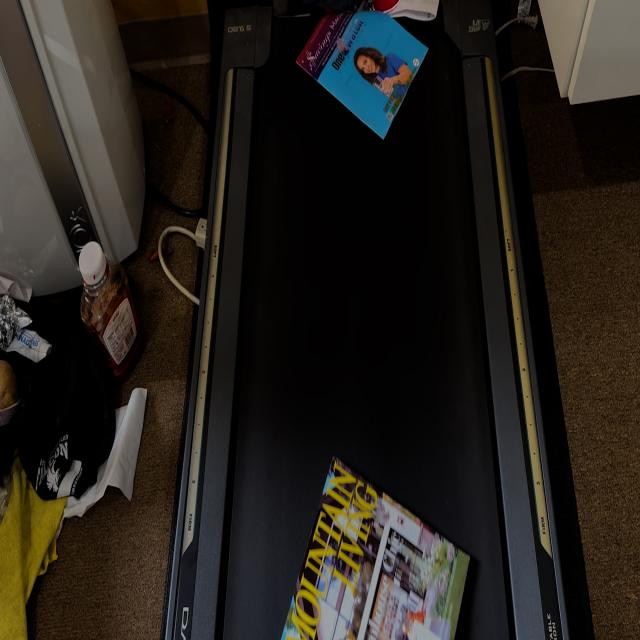Recycle: (279, 455, 472, 637), (295, 1, 429, 146)
